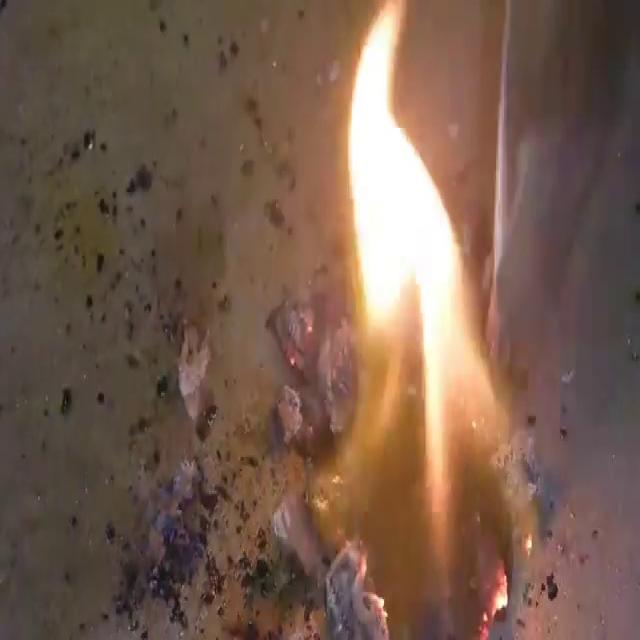Fire: (4, 4, 634, 636), (332, 3, 520, 633)
